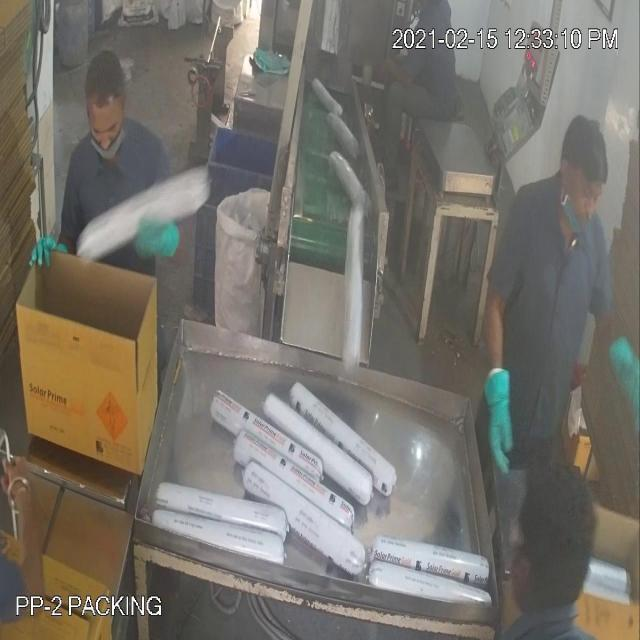Gloves: (30, 142, 497, 532)
